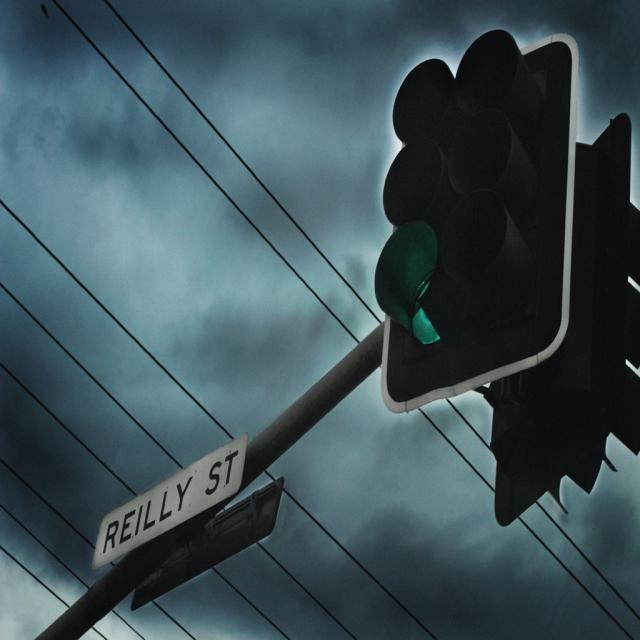traffic light: (452, 38, 561, 345), (378, 54, 454, 367)
